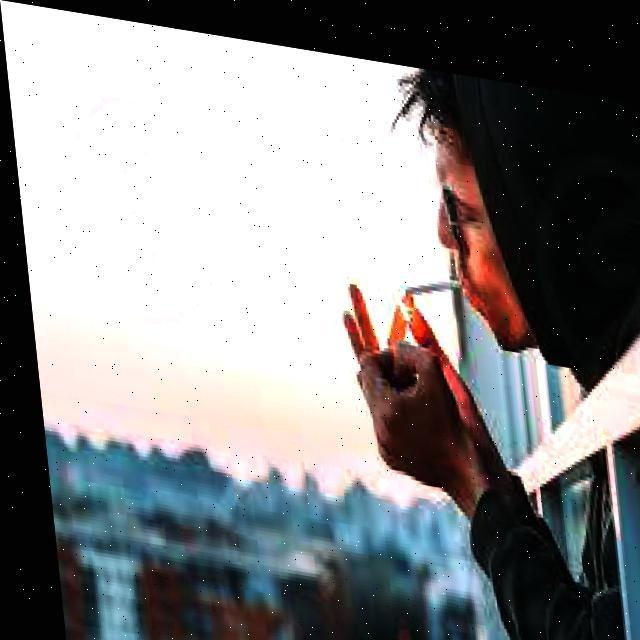Fire: (370, 266, 410, 322)
